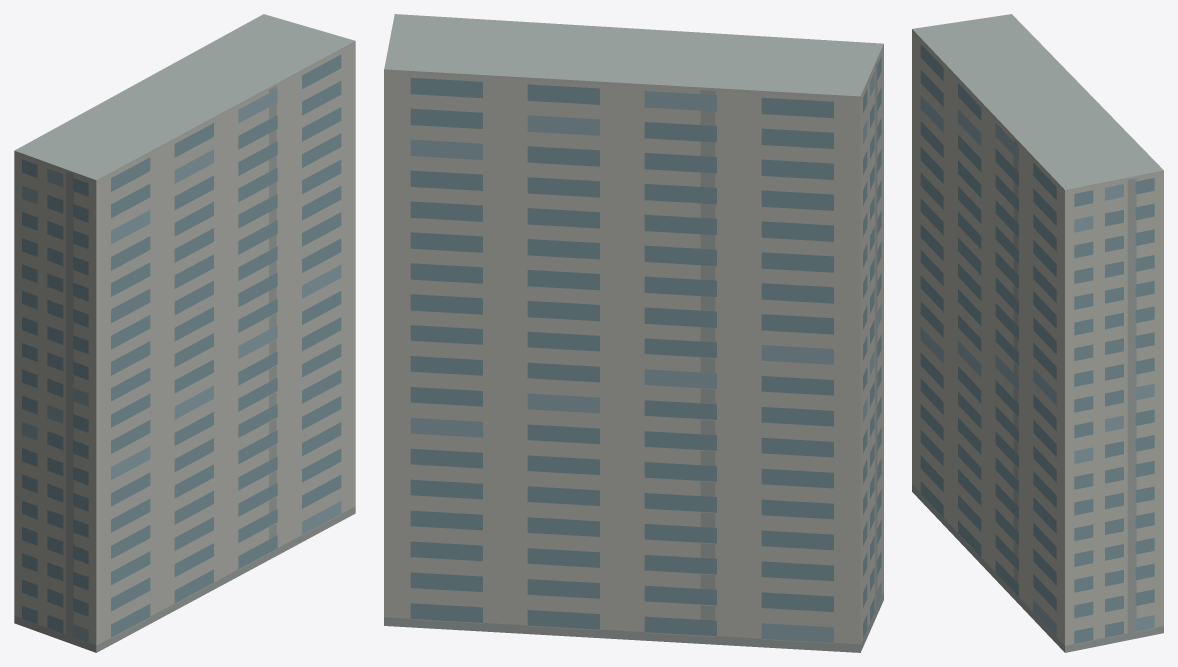
File: residential-599d9012-83c4-4a6e-baa2-959a9e97e558.glb
3 views of the same model, side by side, from view 1: azimuth 30°, elevation 25°; view 2: azimuth 150°, elevation 25°; view 3: azimuth 270°, elevation 25° (orthographic). The views are drawn at different scales.
Parts seen in each view (by area): view 1: residential-599d9012-83c4-4a6e-baa2-959a9e97e558.tmp; view 2: residential-599d9012-83c4-4a6e-baa2-959a9e97e558.tmp; view 3: residential-599d9012-83c4-4a6e-baa2-959a9e97e558.tmp.
Part boxes in pixels (bbox=[...]): residential-599d9012-83c4-4a6e-baa2-959a9e97e558.tmp: bbox=[14, 14, 355, 652]; residential-599d9012-83c4-4a6e-baa2-959a9e97e558.tmp: bbox=[384, 14, 883, 652]; residential-599d9012-83c4-4a6e-baa2-959a9e97e558.tmp: bbox=[912, 14, 1163, 652].
Size of the model in its own units: 40.8 by 50 by 24.66.
